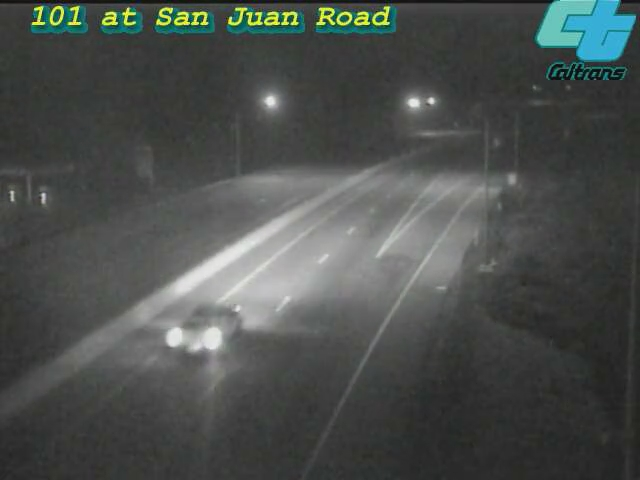vehicle: (149, 275, 259, 385)
